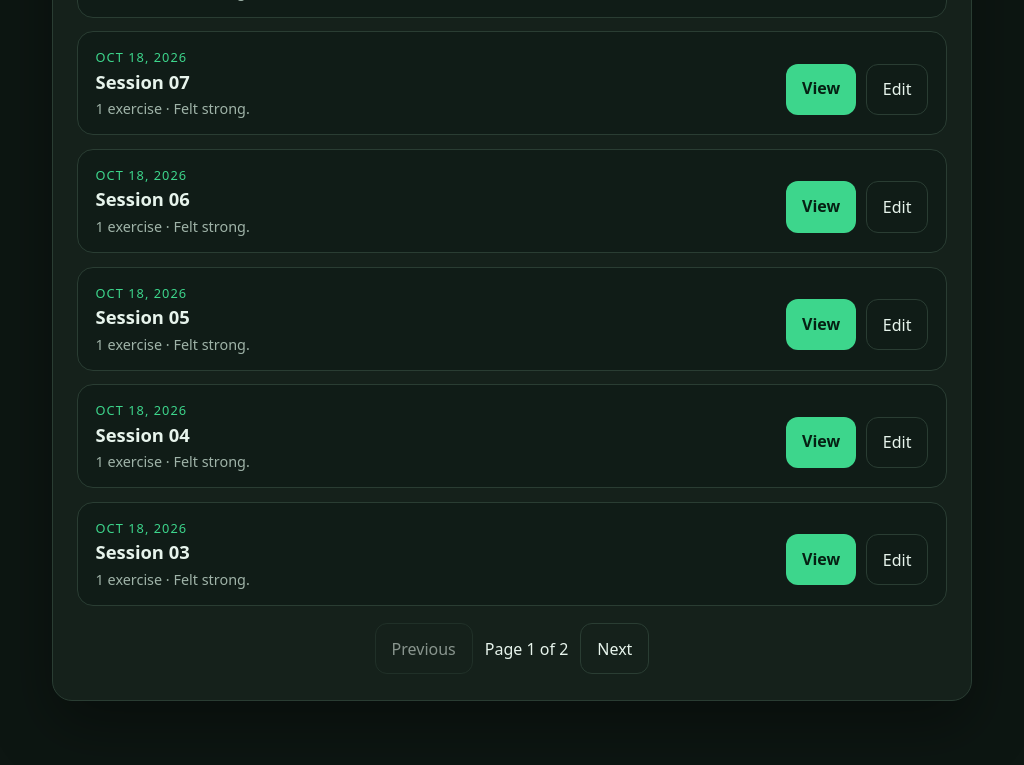
Test: S2 workout pages › paginates long workout histories
(page scrolled)
Expected: the text "Page 1 of 2" is shown, [485,638,568,660]
Click the button "Next" at (615, 649), box [580,623,649,674]
(page scrolled)
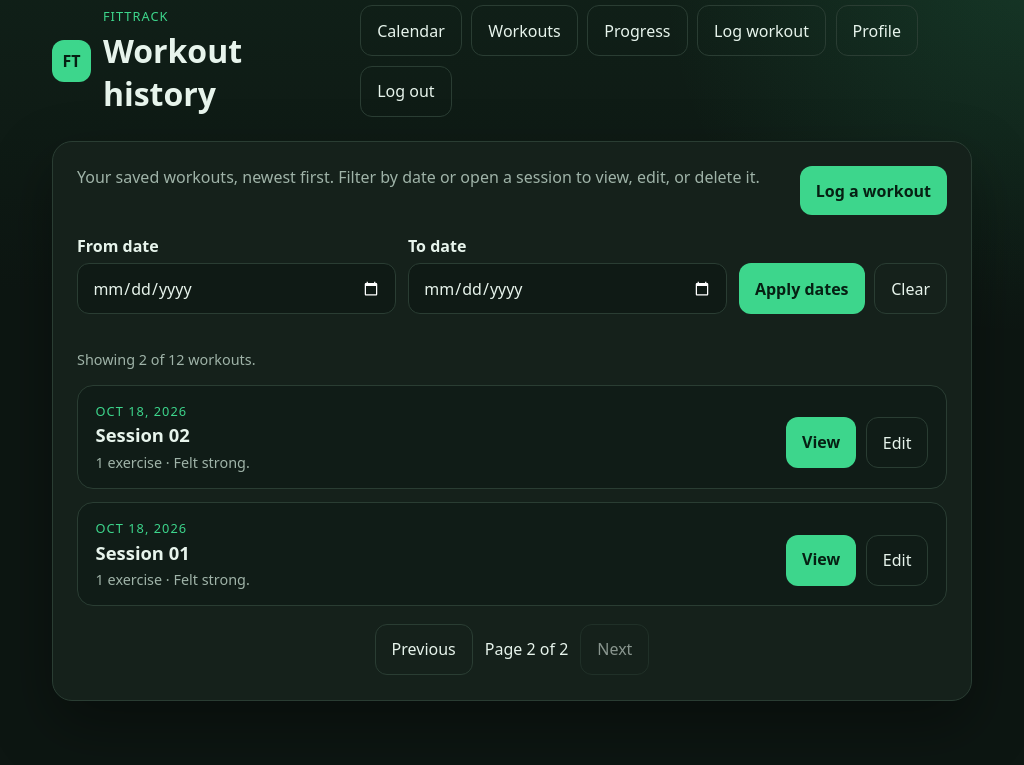
Result: the text "Showing 2 of 12 workouts." is shown at [77,350,256,368]
Result: the text "Page 2 of 2" is shown at [485,638,568,660]
